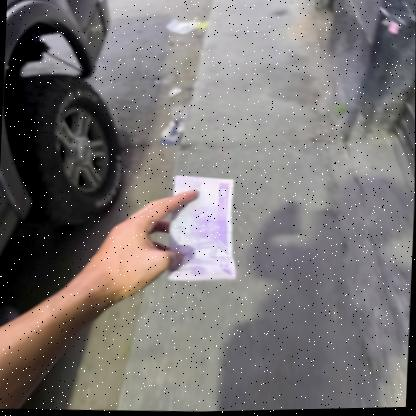one_hundred-back-vef: (166, 175, 242, 285)
